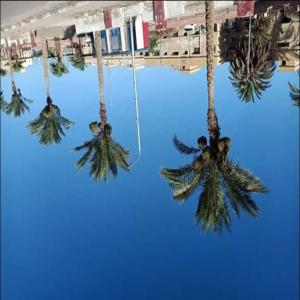palm tree: (158, 1, 274, 234), (228, 13, 276, 103), (0, 43, 33, 118)
